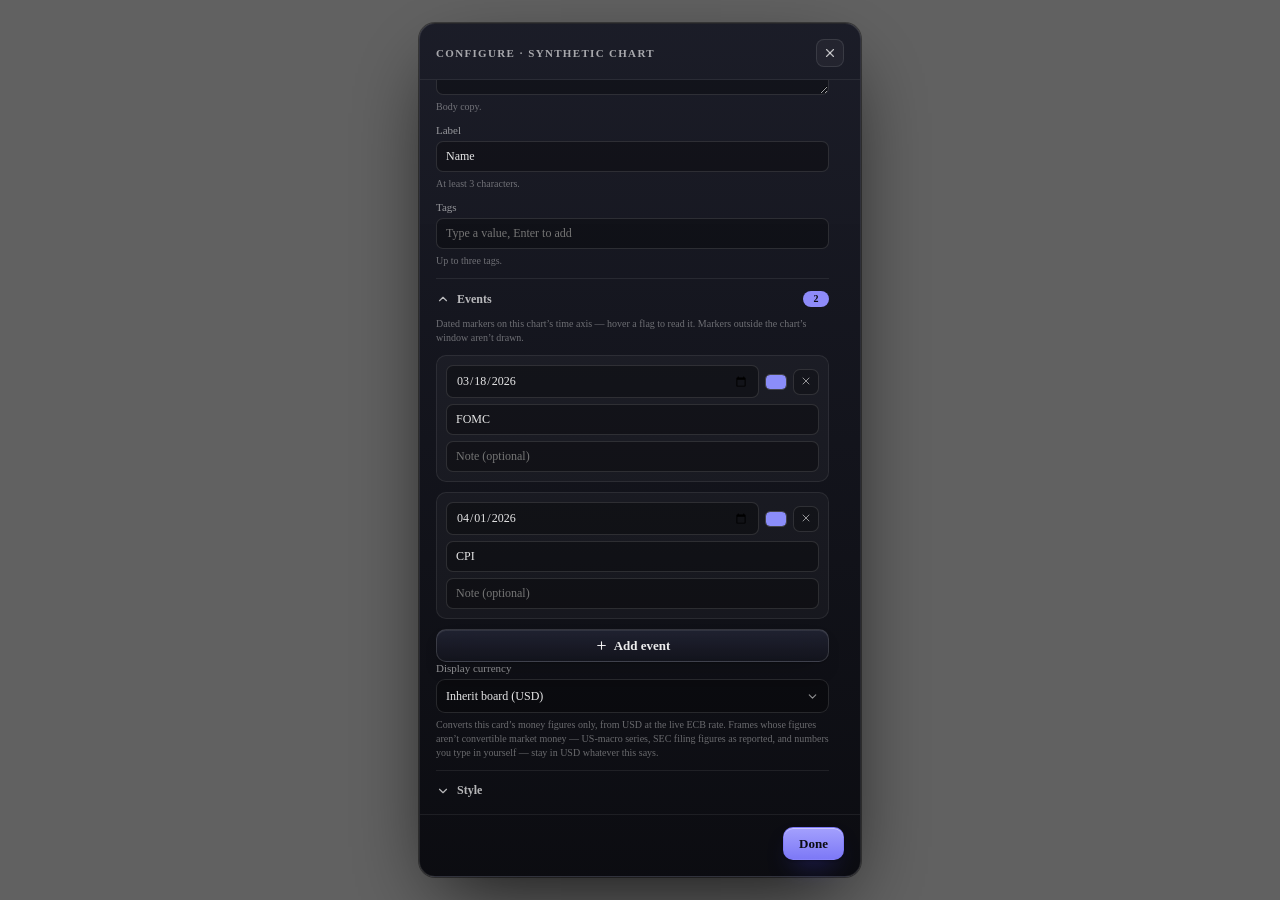
it: FrameConfigDialog events validation › names the marker that is wrong, next to the row that is wrong
(page scrolled)
Clear the field named "Event 2 label" at (632, 556), box top-left (446, 541), bottom-right (819, 572)
Wait 200 ms
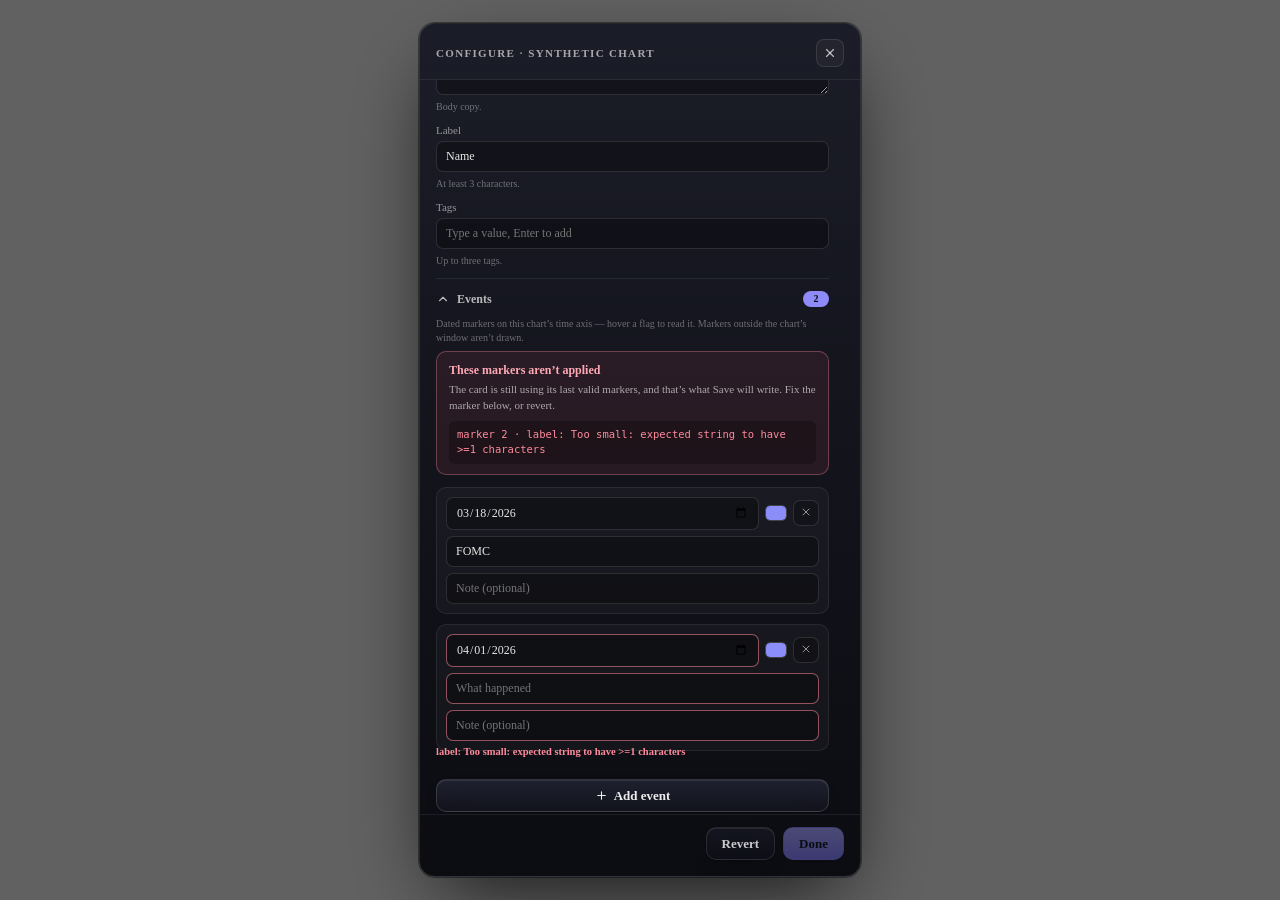
expect the text with class "zf-field-error" shows "label": met, box top-left (436, 746), bottom-right (685, 757)
expect the text with class "zf-config-error-detail" shows "marker 2": met, box top-left (457, 428), bottom-right (792, 456)
